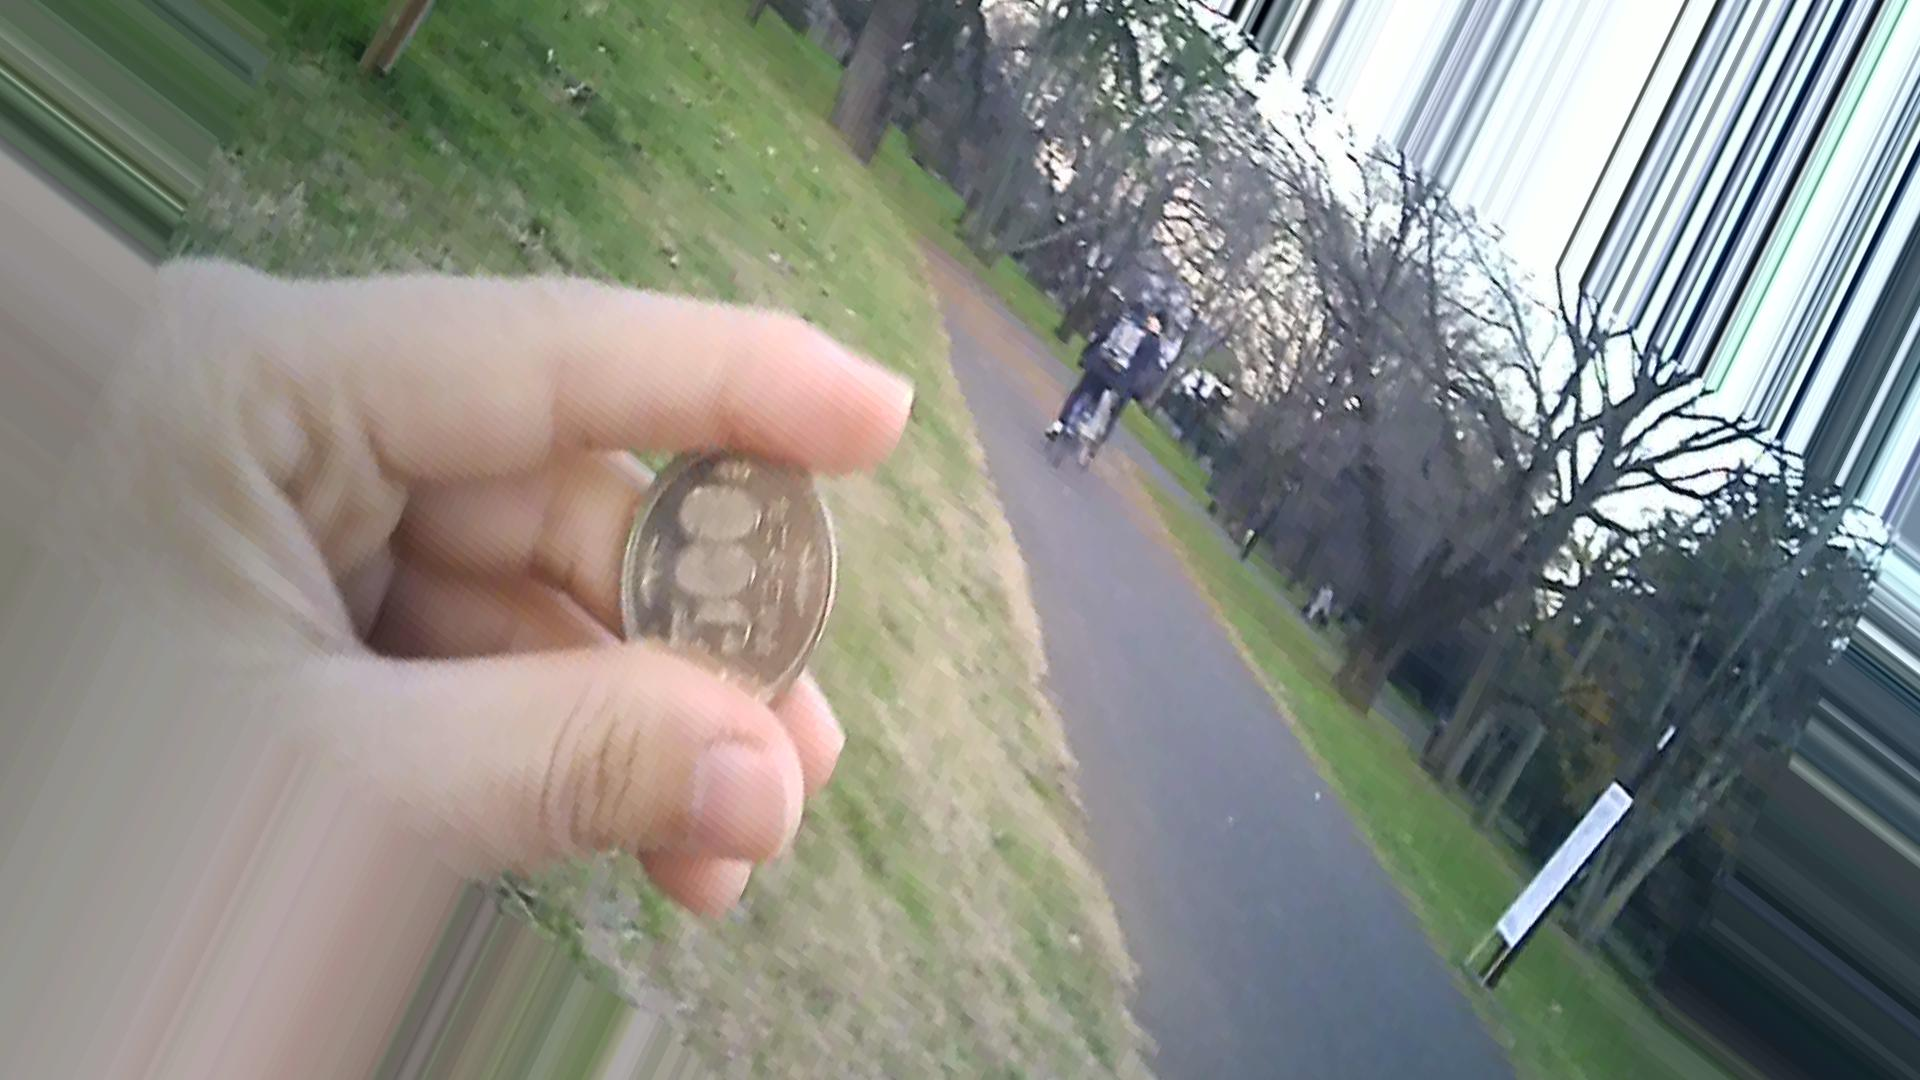500 Yen: (607, 419, 837, 719)
